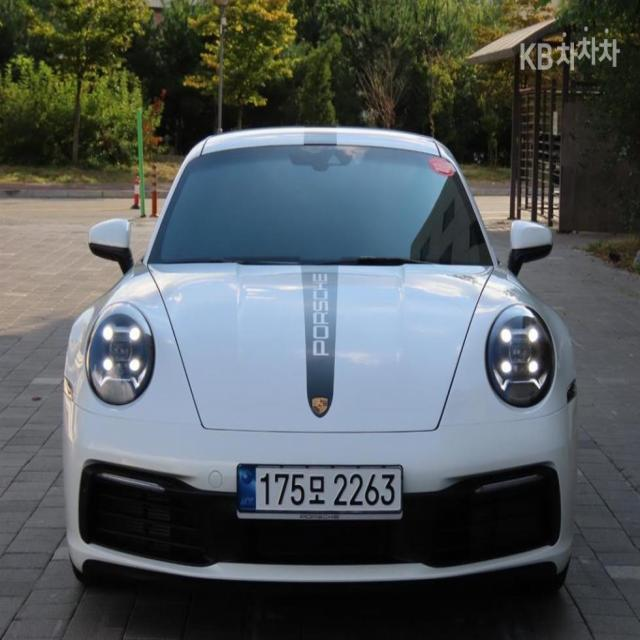car: (60, 122, 584, 609)
illegal_plate: (237, 463, 408, 526)
